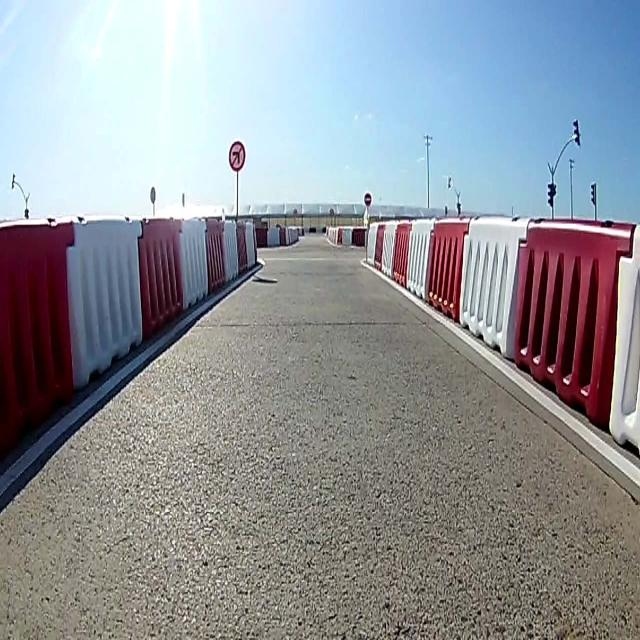girisyok: (363, 191, 371, 205)
soladonulmez: (228, 140, 246, 172)
